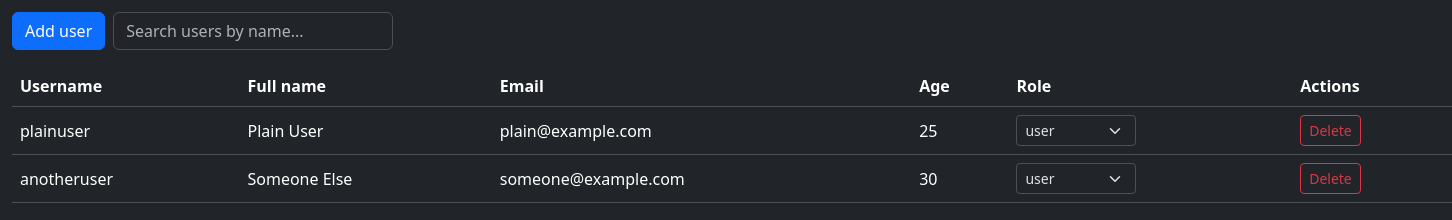
Test: filters the user list by full name
The image size is (1452, 220).
Expected: the text "plainuser" is shown, [12, 106, 240, 154]
Expected: the text "anotheruser" is shown, [12, 154, 240, 202]
Type "Someone" into the search field with placeholder "Search users by name...".
click(253, 31); type("Someone")  # box [113, 12, 393, 50]
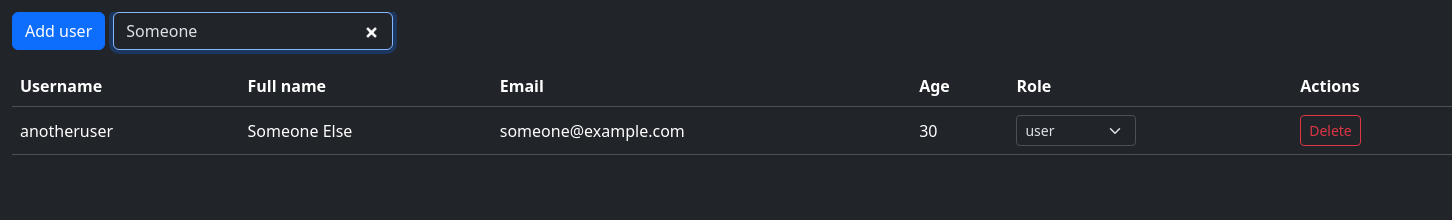
Expected: the text "anotheruser" is shown, [12, 106, 240, 154]
Result: the text "plainuser" is gone
